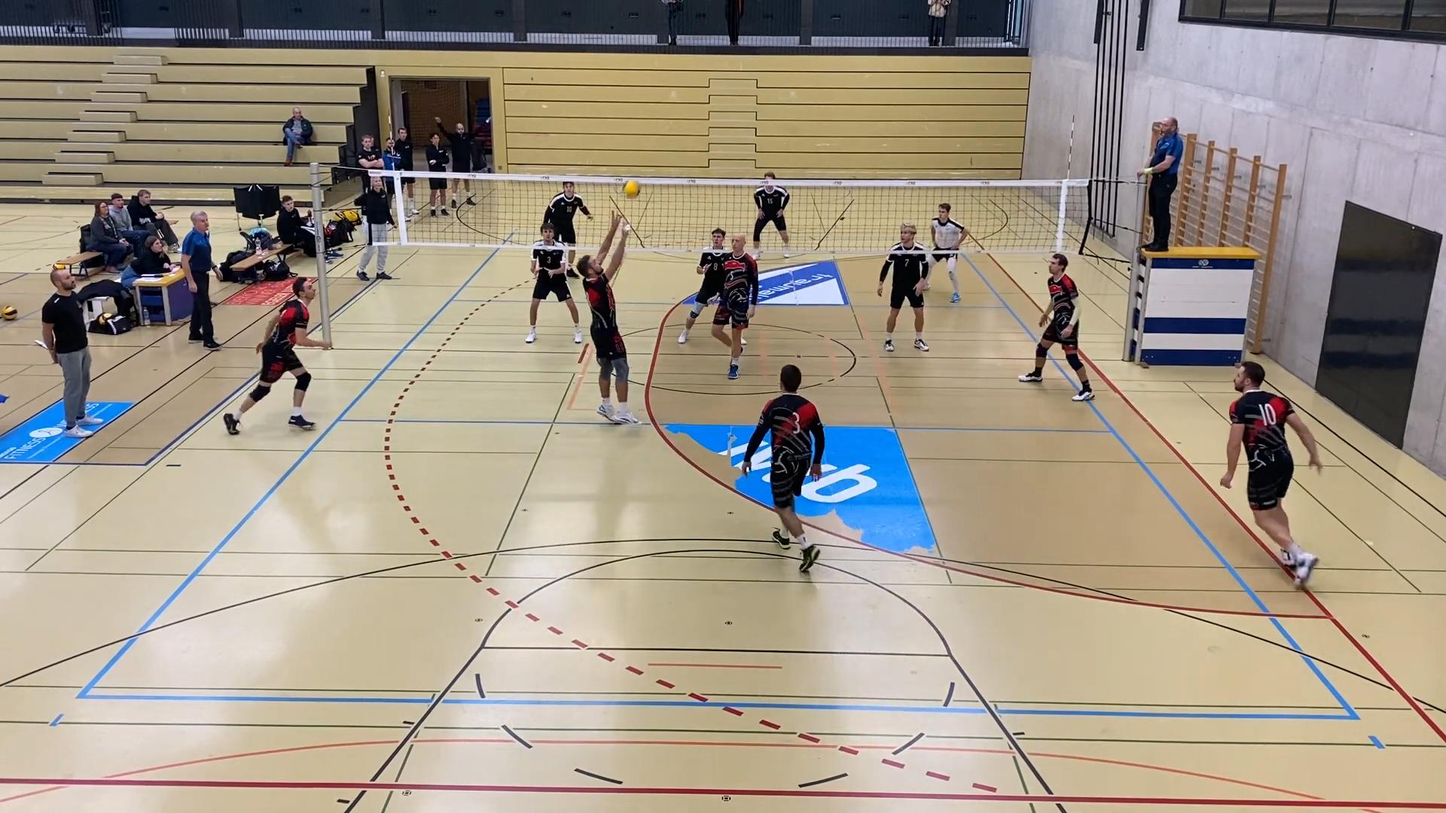Player: (1220, 361, 1322, 586), (223, 277, 331, 434), (742, 365, 824, 571), (1019, 253, 1094, 400), (712, 234, 758, 379), (877, 223, 929, 351), (526, 222, 581, 343), (679, 228, 729, 343), (544, 181, 592, 276), (930, 202, 969, 303), (753, 172, 789, 259)
Set: (580, 209, 642, 427)
ball: (622, 179, 643, 197)
